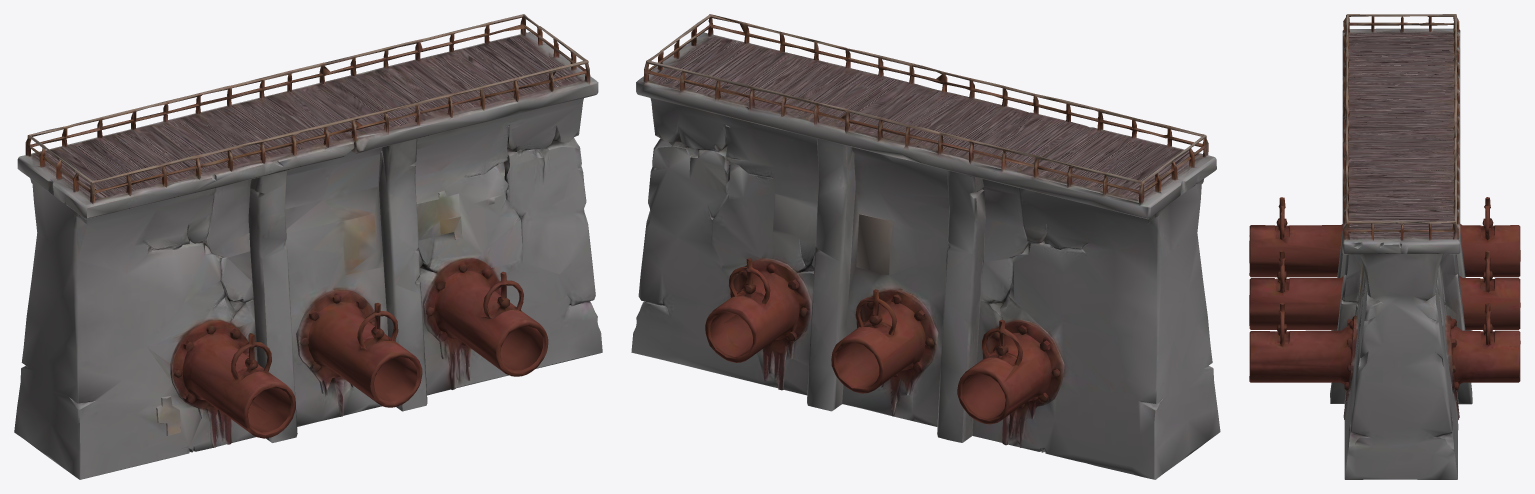
The model's file is ruin_pipe_wall_idle.glb.
The picture shows the model from 3 angles, left to right: view 1: azimuth 30°, elevation 25°; view 2: azimuth 150°, elevation 25°; view 3: azimuth 270°, elevation 25°; orthographic projection. The views are drawn at different scales.
Parts seen in each view (by area): view 1: tripo_node_0248a1fd-e1ef-4494-aedb-82a38b17812d; view 2: tripo_node_0248a1fd-e1ef-4494-aedb-82a38b17812d; view 3: tripo_node_0248a1fd-e1ef-4494-aedb-82a38b17812d.
Boxes of the visible parts, bbox=[...] form: tripo_node_0248a1fd-e1ef-4494-aedb-82a38b17812d: bbox=[14, 14, 602, 479]; tripo_node_0248a1fd-e1ef-4494-aedb-82a38b17812d: bbox=[631, 14, 1220, 479]; tripo_node_0248a1fd-e1ef-4494-aedb-82a38b17812d: bbox=[1249, 14, 1520, 479].
Size of the model in its own units: 3.69 by 2 by 1.93.
Materials: 1 (1 with a texture image).
